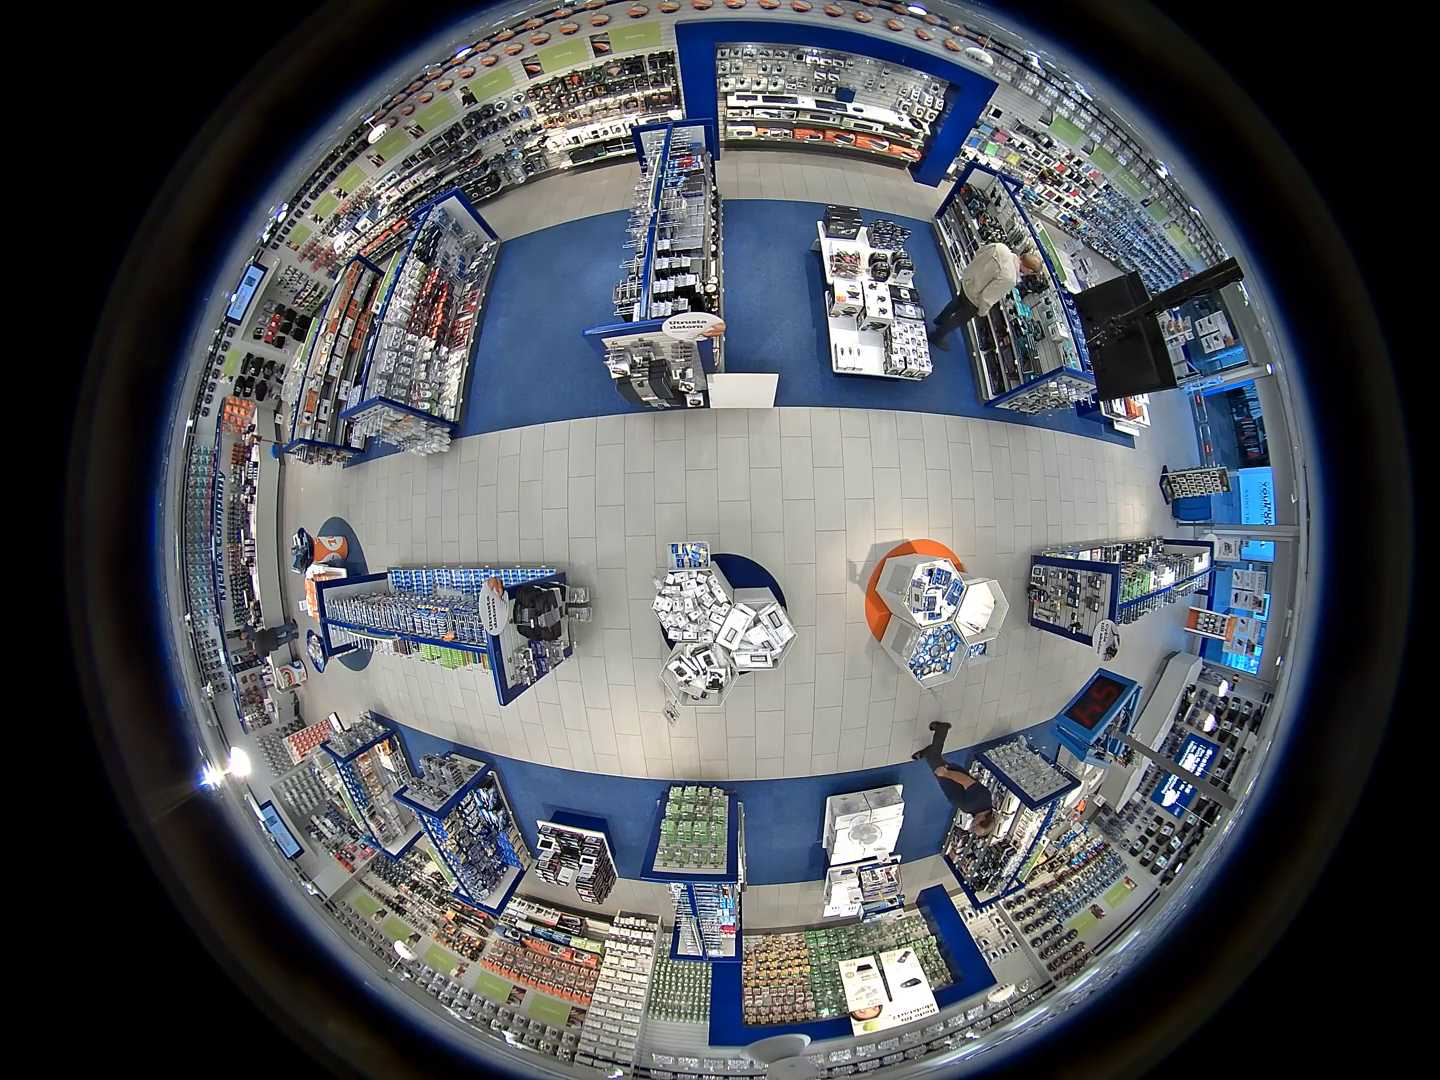person: (926, 242, 1044, 352), (911, 720, 996, 836), (248, 618, 299, 660), (238, 620, 257, 642)
